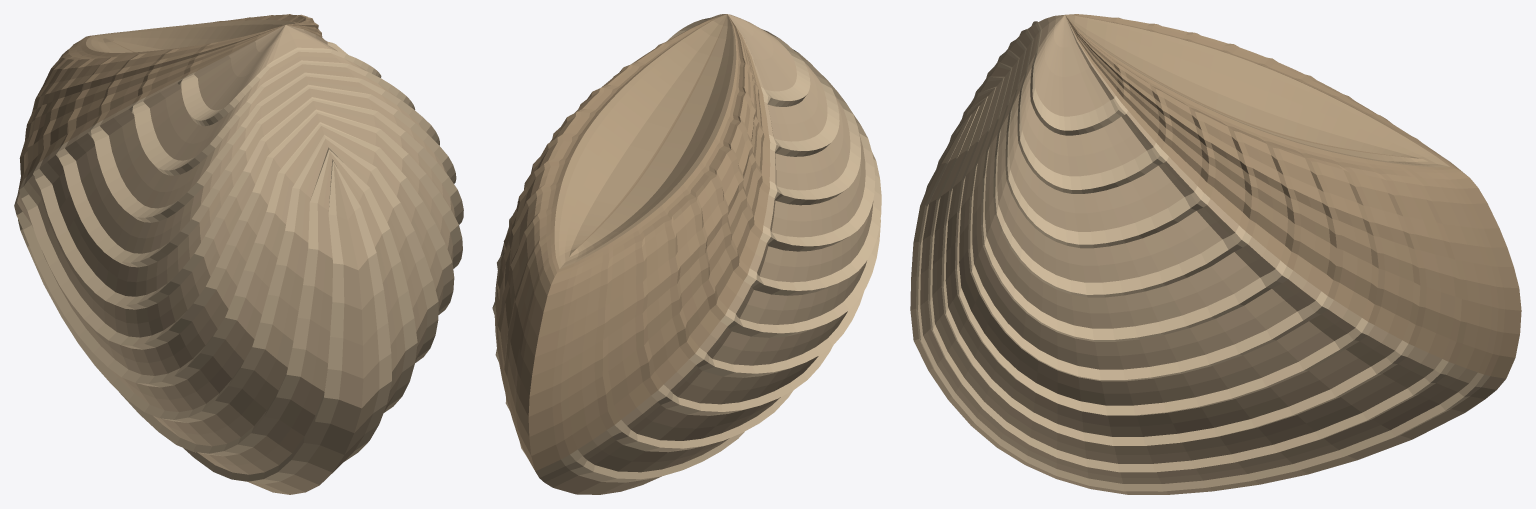
The model's file is trigonia.glb.
The picture shows the model from 3 angles, left to right: view 1: azimuth 30°, elevation 25°; view 2: azimuth 150°, elevation 25°; view 3: azimuth 270°, elevation 25°; orthographic projection. The views are drawn at different scales.
Parts seen in each view (by area): view 1: Paired-valves_continuous-flanks-area-escutcheon; view 2: Paired-valves_continuous-flanks-area-escutcheon; view 3: Paired-valves_continuous-flanks-area-escutcheon.
Boxes of the visible parts, x1,y1,x2,y2 form: Paired-valves_continuous-flanks-area-escutcheon: [14, 14, 463, 494]; Paired-valves_continuous-flanks-area-escutcheon: [492, 14, 881, 494]; Paired-valves_continuous-flanks-area-escutcheon: [910, 14, 1521, 494].
Bounding box in the file's own units: 0.0145 × 0.0202 × 0.0233.
